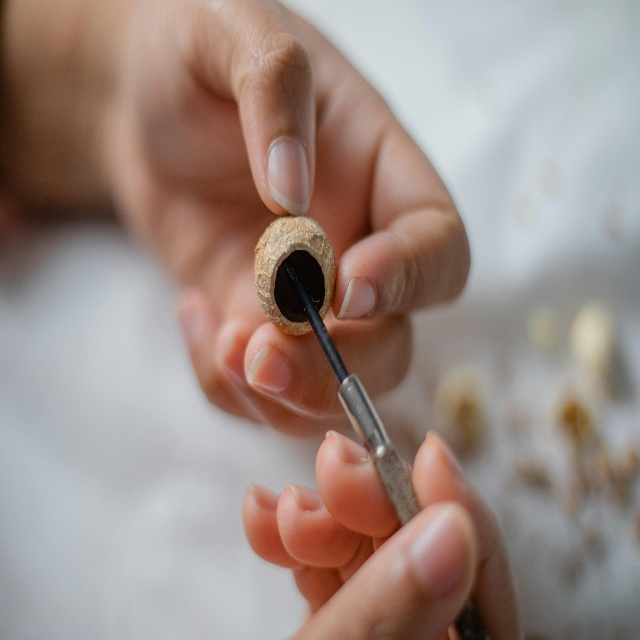Sin_guantes: (115, 0, 471, 443), (242, 430, 522, 638)
